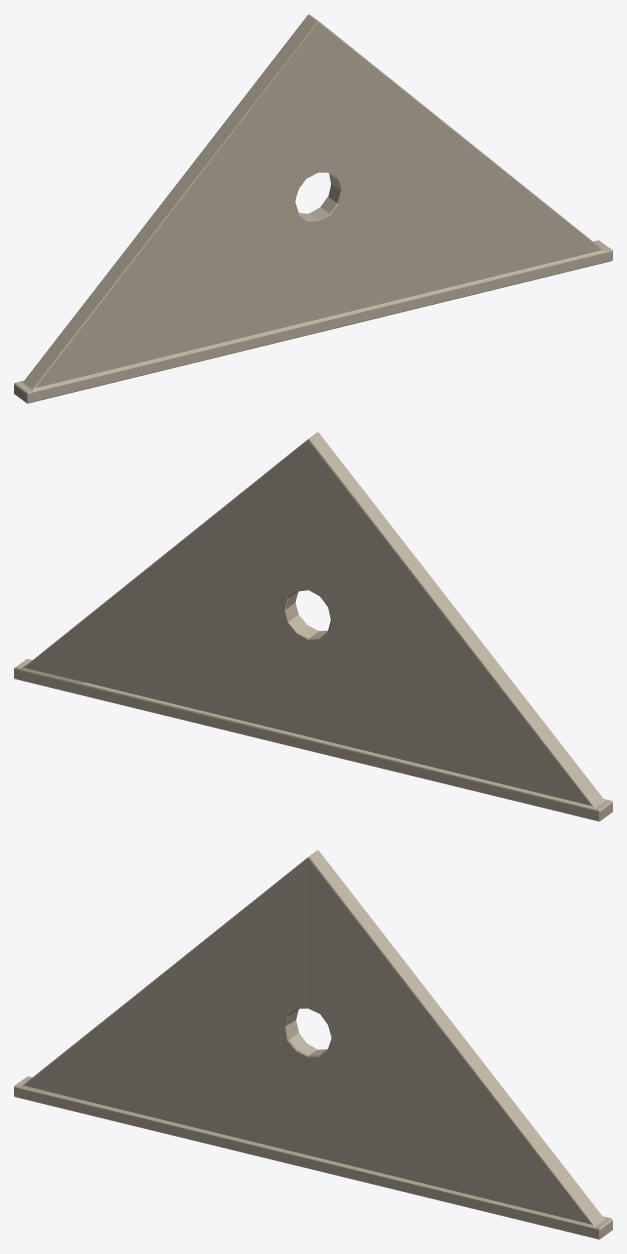
File: gable_win_r16.fbx
The picture shows the model from 3 angles, top to bottom: view 1: azimuth 30°, elevation 25°; view 2: azimuth 150°, elevation 25°; view 3: azimuth 330°, elevation 25°; orthographic projection.
Visible parts, largest first — view 1: gable_win_r16; view 2: gable_win_r16; view 3: gable_win_r16.
Part boxes in pixels (x1=…): gable_win_r16: x1=14, y1=14, x2=612, y2=403; gable_win_r16: x1=14, y1=432, x2=612, y2=821; gable_win_r16: x1=14, y1=850, x2=612, y2=1239.
Bounding box in the file's own units: 3240 × 1636 × 130.
